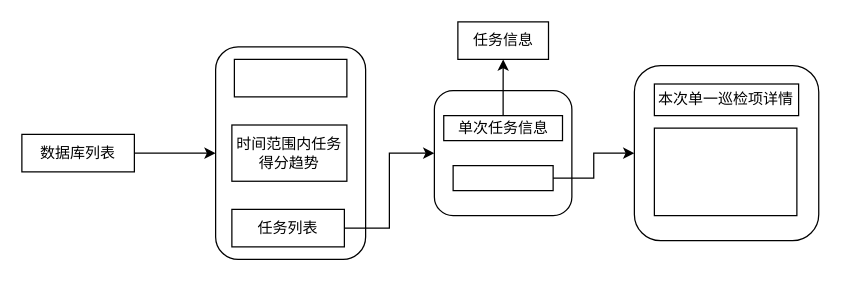
The diagram is 841 pixels wide and 281 high, and some of its shapes have lost their labels. Here are the shapes that lost their labels. From the top down, the centre of each, then its label:
(290,77): 时间范围查询
(502,177): 巡检项列表
(725,171): 巡检项历史，查询某时间范围内结果。 数值类可做折线图。 判断类可做饼图。
